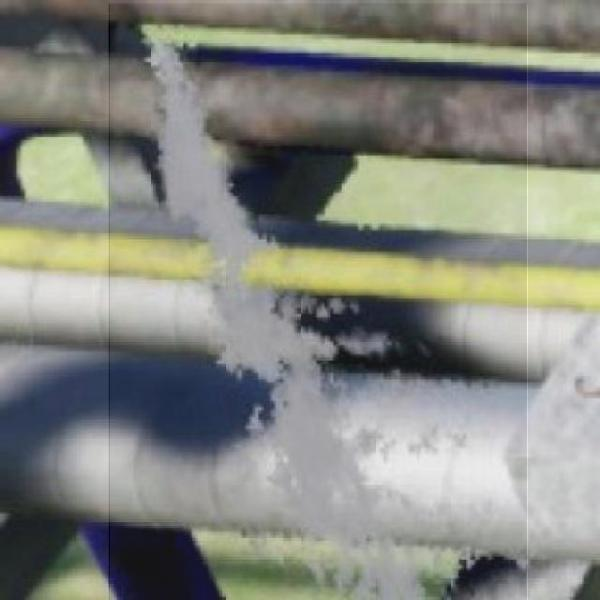gas: (110, 4, 528, 600)
